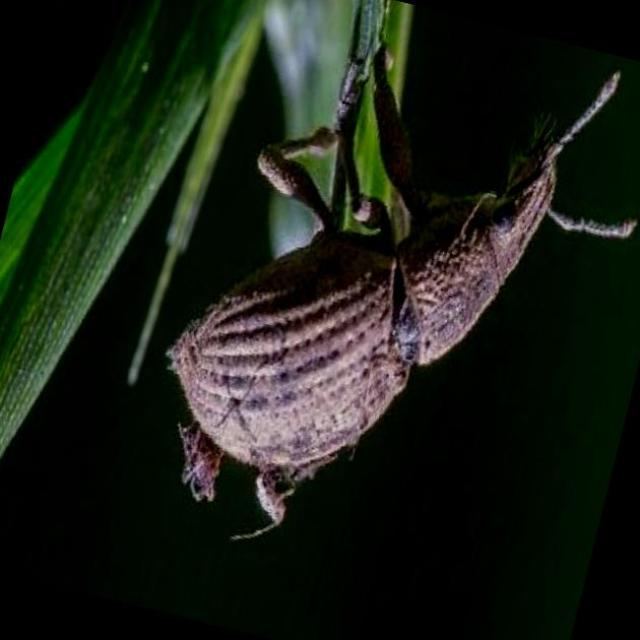ricebug: (172, 50, 620, 536)
